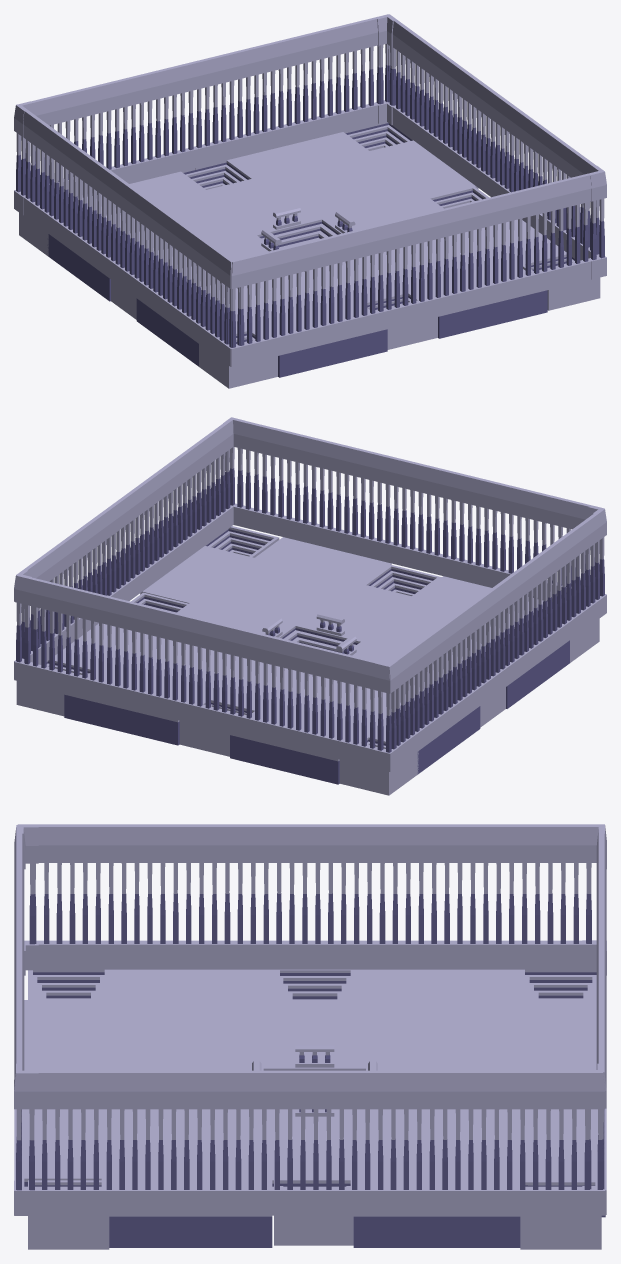
The model's file is egg-game-map.glb.
3 renders of one model, top to bottom at view 1: azimuth 30°, elevation 25°; view 2: azimuth 150°, elevation 25°; view 3: azimuth 270°, elevation 25°, orthographic. The views are drawn at different scales.
Parts seen in each view (by area): view 1: mergedBlocks(Clone); view 2: mergedBlocks(Clone); view 3: mergedBlocks(Clone).
Part boxes in pixels (left/top/right/bottom): mergedBlocks(Clone): left=14, top=14, right=606, bottom=388; mergedBlocks(Clone): left=14, top=417, right=606, bottom=795; mergedBlocks(Clone): left=14, top=824, right=606, bottom=1249.
Bounding box in the file's own units: 15.3 × 5.04 × 15.3.
